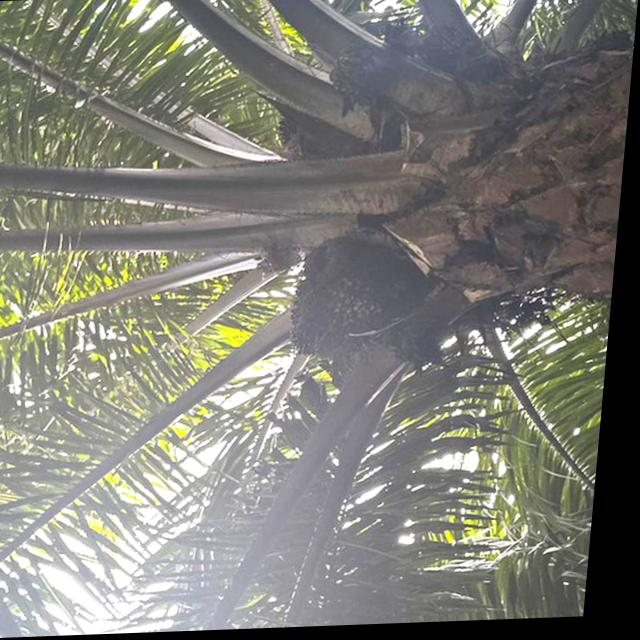unripe: (283, 227, 437, 372)
